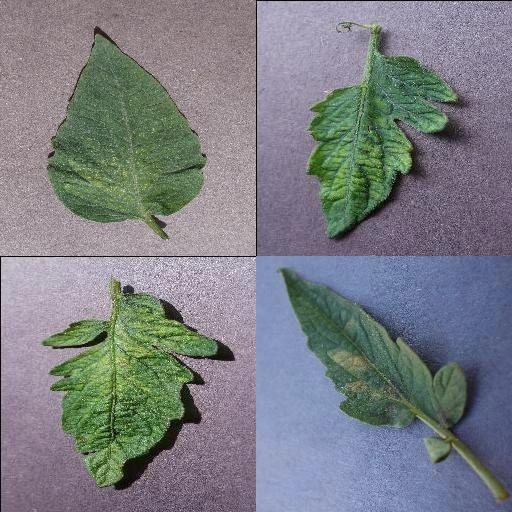Leaf Mold: (282, 265, 466, 431)
Mosaic Virus: (39, 290, 219, 490), (306, 57, 460, 239)
Spider Mites: (46, 32, 207, 224)
